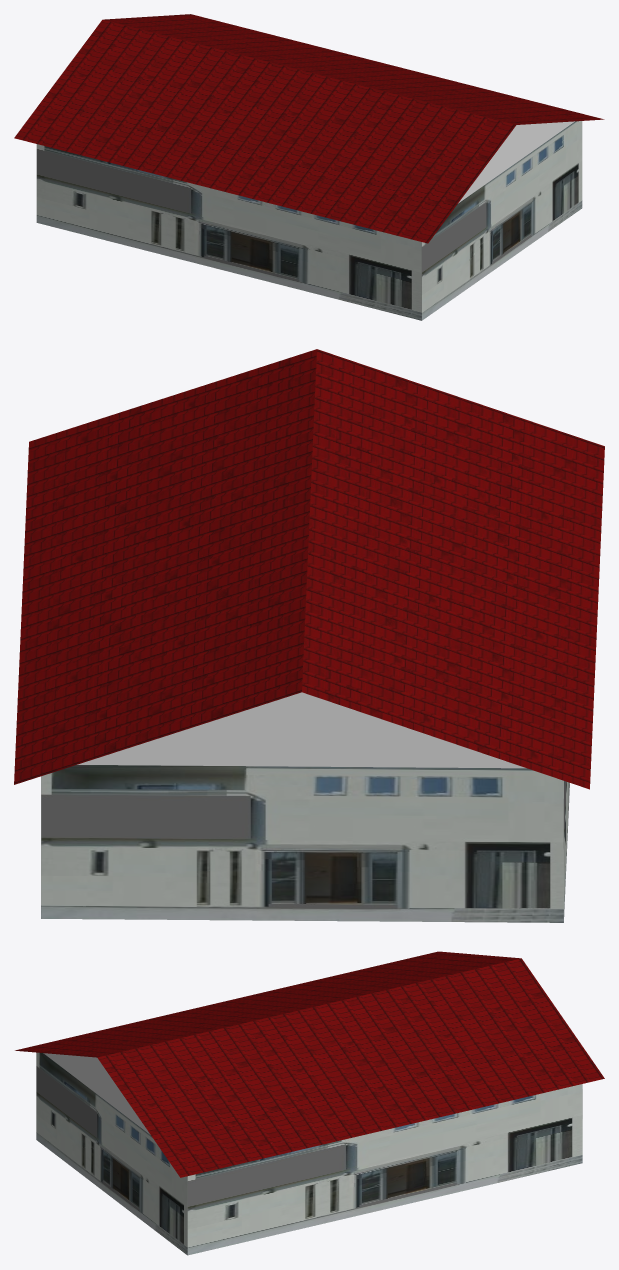
3 views of the same model, one above another, from view 1: azimuth 30°, elevation 25°; view 2: azimuth 150°, elevation 25°; view 3: azimuth 270°, elevation 25° (orthographic). The views are drawn at different scales.
Parts seen in each view (by area): view 1: CityEngineMaterial_17_m, CityEngineMaterial_11_m, CityEngineMaterial_3_m; view 2: CityEngineMaterial_17_m, CityEngineMaterial_11_m, CityEngineMaterial_3_m; view 3: CityEngineMaterial_17_m, CityEngineMaterial_11_m, CityEngineMaterial_3_m.
Part boxes in pixels (x1=…): CityEngineMaterial_17_m: x1=14, y1=14, x2=604, y2=243; CityEngineMaterial_11_m: x1=36, y1=121, x2=582, y2=320; CityEngineMaterial_3_m: x1=458, y1=121, x2=574, y2=203; CityEngineMaterial_17_m: x1=14, y1=349, x2=604, y2=789; CityEngineMaterial_11_m: x1=41, y1=765, x2=569, y2=922; CityEngineMaterial_3_m: x1=77, y1=692, x2=526, y2=768; CityEngineMaterial_17_m: x1=15, y1=951, x2=604, y2=1177; CityEngineMaterial_11_m: x1=36, y1=1052, x2=582, y2=1255; CityEngineMaterial_3_m: x1=43, y1=1053, x2=150, y2=1134.
Bounding box in the file's own units: 31.75 × 9.39 × 35.02.
